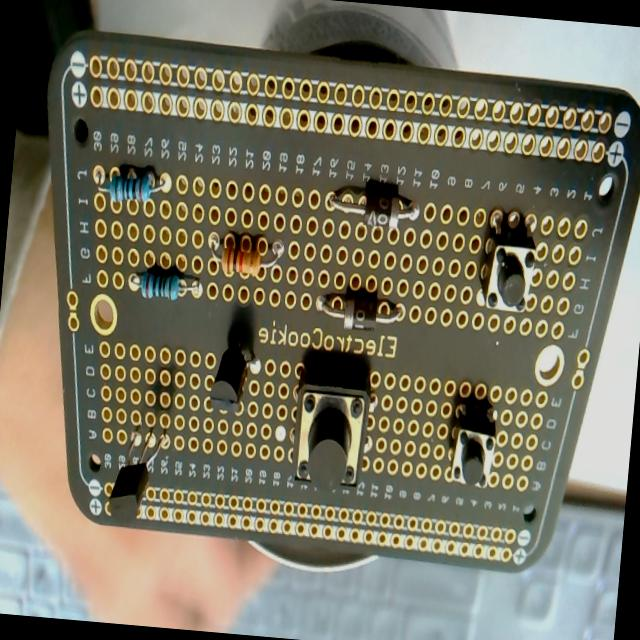diode: (328, 183, 421, 230), (316, 290, 404, 332)
resistor: (204, 230, 284, 280), (93, 163, 166, 210), (126, 266, 200, 304)
switch: (287, 362, 373, 494), (477, 214, 543, 316), (446, 400, 498, 490)
transistor: (104, 418, 167, 526), (205, 342, 264, 415)
